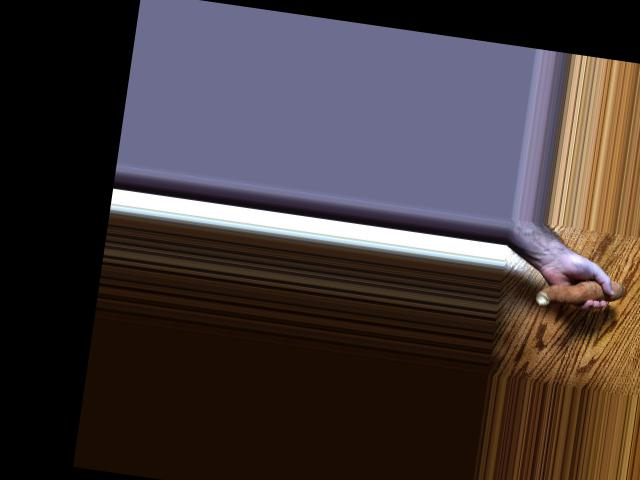sweet_potato: (528, 265, 619, 312)
